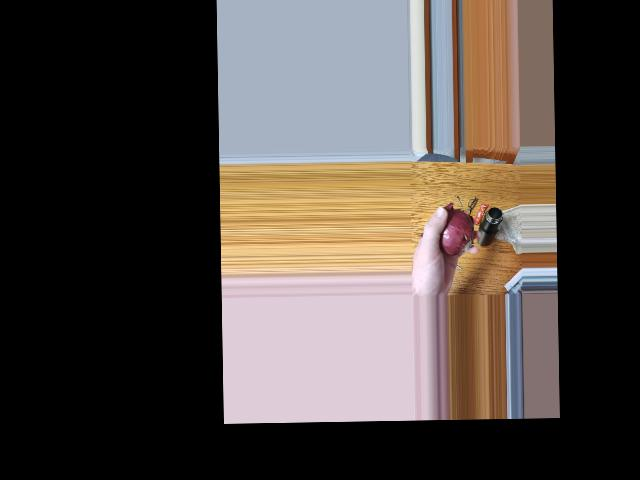onion: (433, 213, 473, 256)
